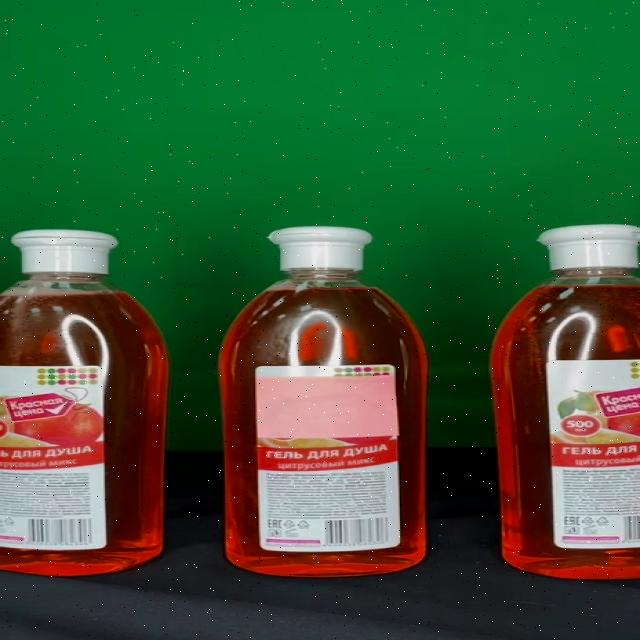Bottle: (217, 226, 430, 578), (0, 228, 168, 577), (488, 225, 640, 579)
Cap: (12, 229, 118, 274), (535, 225, 640, 270), (267, 227, 373, 271)
